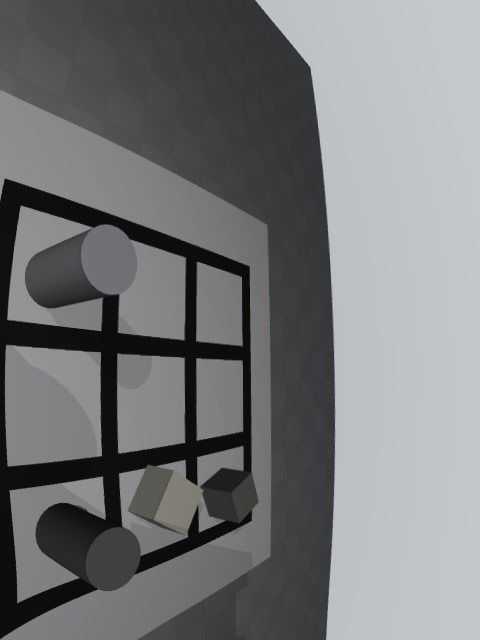can: (25, 224, 137, 308)
cube: (200, 468, 259, 524)
cylinder: (35, 503, 141, 591)
foam: (128, 465, 203, 536)
